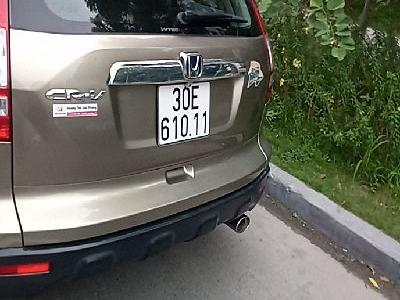car: (157, 80, 211, 146)
